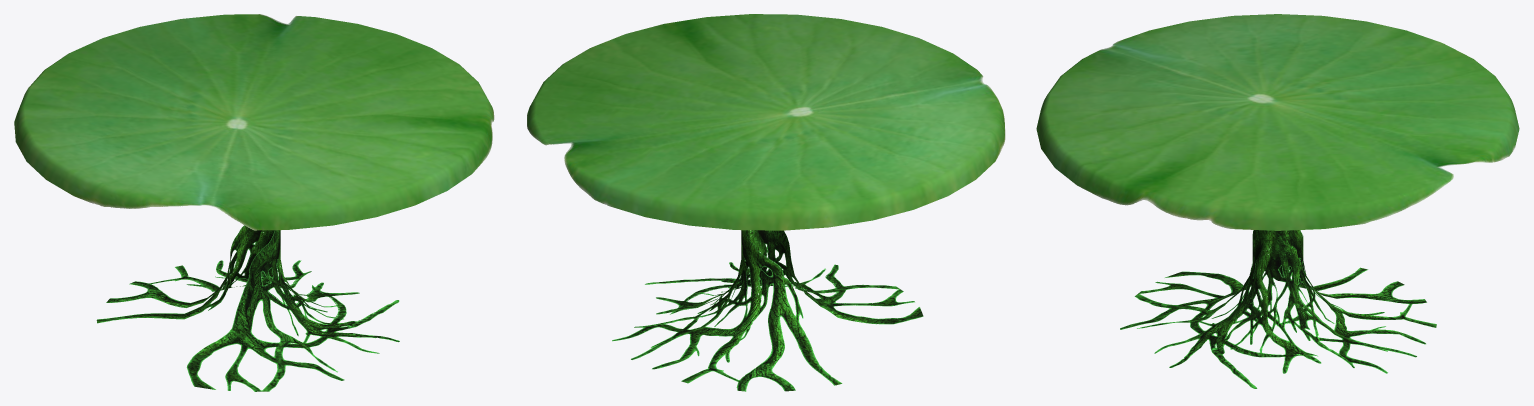
Rendered from Swamp Table.fbx.
The picture shows the model from 3 angles, left to right: view 1: azimuth 30°, elevation 25°; view 2: azimuth 150°, elevation 25°; view 3: azimuth 270°, elevation 25°; orthographic projection.
Visible parts, largest first — view 1: Circle, Cylinder; view 2: Circle, Cylinder; view 3: Circle, Cylinder.
Boxes of the visible parts, x1,y1,x2,y2 form: Circle: (14, 14, 494, 230); Cylinder: (96, 225, 399, 391); Circle: (527, 14, 1005, 230); Cylinder: (612, 230, 923, 391); Circle: (1036, 14, 1519, 230); Cylinder: (1120, 230, 1436, 388).
Size of the model in its own units: 157 by 76.65 by 157.
